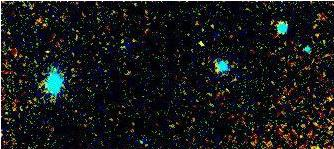star: (190, 29, 220, 59)
